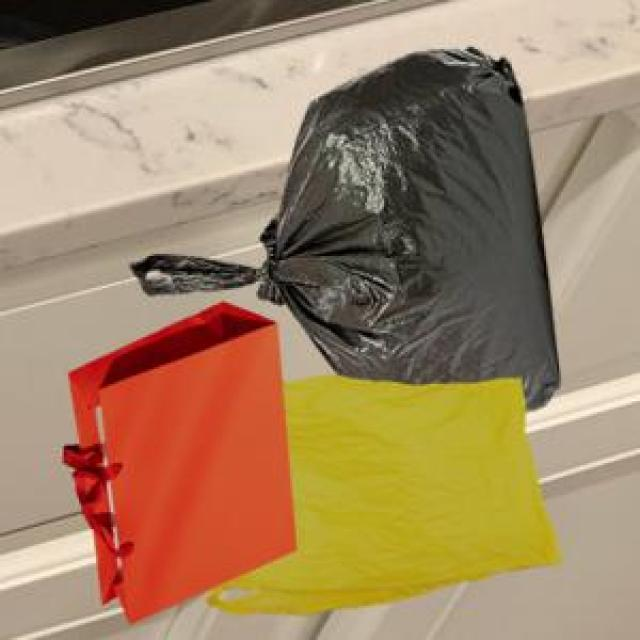miscellaneous trash: (126, 43, 555, 408)
paper: (60, 299, 292, 619)
